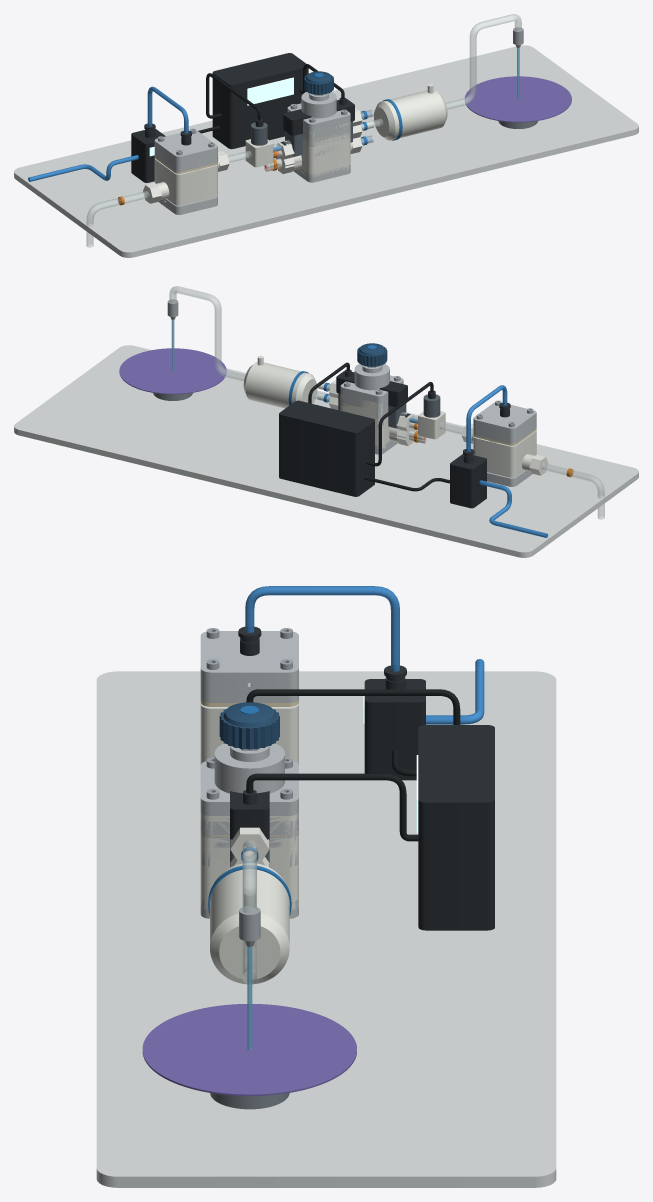
File: regulators.glb
The picture shows the model from 3 angles, top to bottom: view 1: azimuth 30°, elevation 25°; view 2: azimuth 150°, elevation 25°; view 3: azimuth 270°, elevation 25°; orthographic projection. The views are drawn at different scales.
Visible parts, largest first — view 1: loop__tray__full, loop__ctl__full, loop__wafer__full, loop__filter__full, loop__reg_body__full, loop__reg_bonnet__full, loop__pipe_d__full, dome__body__full, loop__ep__full, bpr__body__full, dome__bonnet__full, loop__ctl_screen__full (+14 smaller); view 2: loop__tray__full, loop__ctl__full, loop__wafer__full, loop__filter__full, loop__reg_body__full, loop__reg_bonnet__full, loop__ep__full, loop__pipe_d__full, dome__bonnet__cut, spring__bonnet__cut, loop__fm_box__full, loop__pipe_supply__full (+7 smaller); view 3: loop__tray__full, loop__ctl__full, loop__wafer__full, loop__filter__full, loop__reg_bonnet__full, loop__ep__full, loop__air_line__full, loop__reg_body__full, loop__cable_q__full, loop__cable_p__full, spring__bonnet__full, loop__pipe_d__full (+10 smaller).
Part boxes in pixels (x1,y1,x2,y2): loop__tray__full: [14, 45, 638, 257]; loop__ctl__full: [212, 53, 308, 149]; loop__wafer__full: [464, 76, 571, 122]; loop__filter__full: [374, 90, 447, 140]; loop__reg_body__full: [154, 158, 219, 205]; loop__reg_bonnet__full: [154, 130, 217, 171]; loop__pipe_d__full: [446, 14, 521, 109]; dome__body__full: [293, 133, 350, 172]; loop__ep__full: [131, 128, 165, 182]; bpr__body__full: [293, 139, 352, 173]; dome__bonnet__full: [288, 105, 350, 139]; loop__ctl_screen__full: [247, 77, 293, 105]; loop__tray__full: [14, 345, 638, 557]; loop__ctl__full: [279, 400, 374, 496]; loop__wafer__full: [119, 348, 226, 394]; loop__filter__full: [243, 361, 317, 408]; loop__reg_body__full: [471, 430, 536, 477]; loop__reg_bonnet__full: [473, 402, 536, 443]; loop__ep__full: [450, 454, 486, 508]; loop__pipe_d__full: [169, 286, 245, 381]; dome__bonnet__cut: [340, 382, 388, 407]; spring__bonnet__cut: [341, 365, 388, 412]; loop__fm_box__full: [336, 371, 407, 406]; loop__pipe_supply__full: [542, 463, 604, 519]; loop__tray__full: [96, 671, 556, 1187]; loop__ctl__full: [418, 725, 494, 930]; loop__wafer__full: [142, 1004, 356, 1096]; loop__filter__full: [210, 863, 289, 984]; loop__reg_bonnet__full: [200, 631, 298, 702]; loop__ep__full: [364, 679, 425, 780]; loop__air_line__full: [245, 586, 399, 671]; loop__reg_body__full: [200, 703, 298, 764]; loop__cable_q__full: [246, 773, 418, 841]; loop__cable_p__full: [246, 689, 460, 724]; spring__bonnet__full: [200, 743, 287, 836]; loop__pipe_d__full: [242, 840, 256, 983].
Size of the model in its own units: 780 by 185 by 300.
